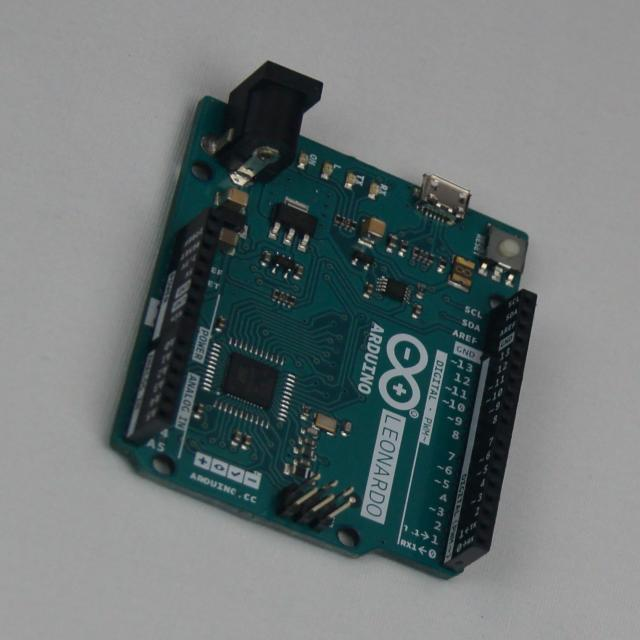Arduino-leonardo: (112, 63, 536, 577), (112, 63, 536, 576)
